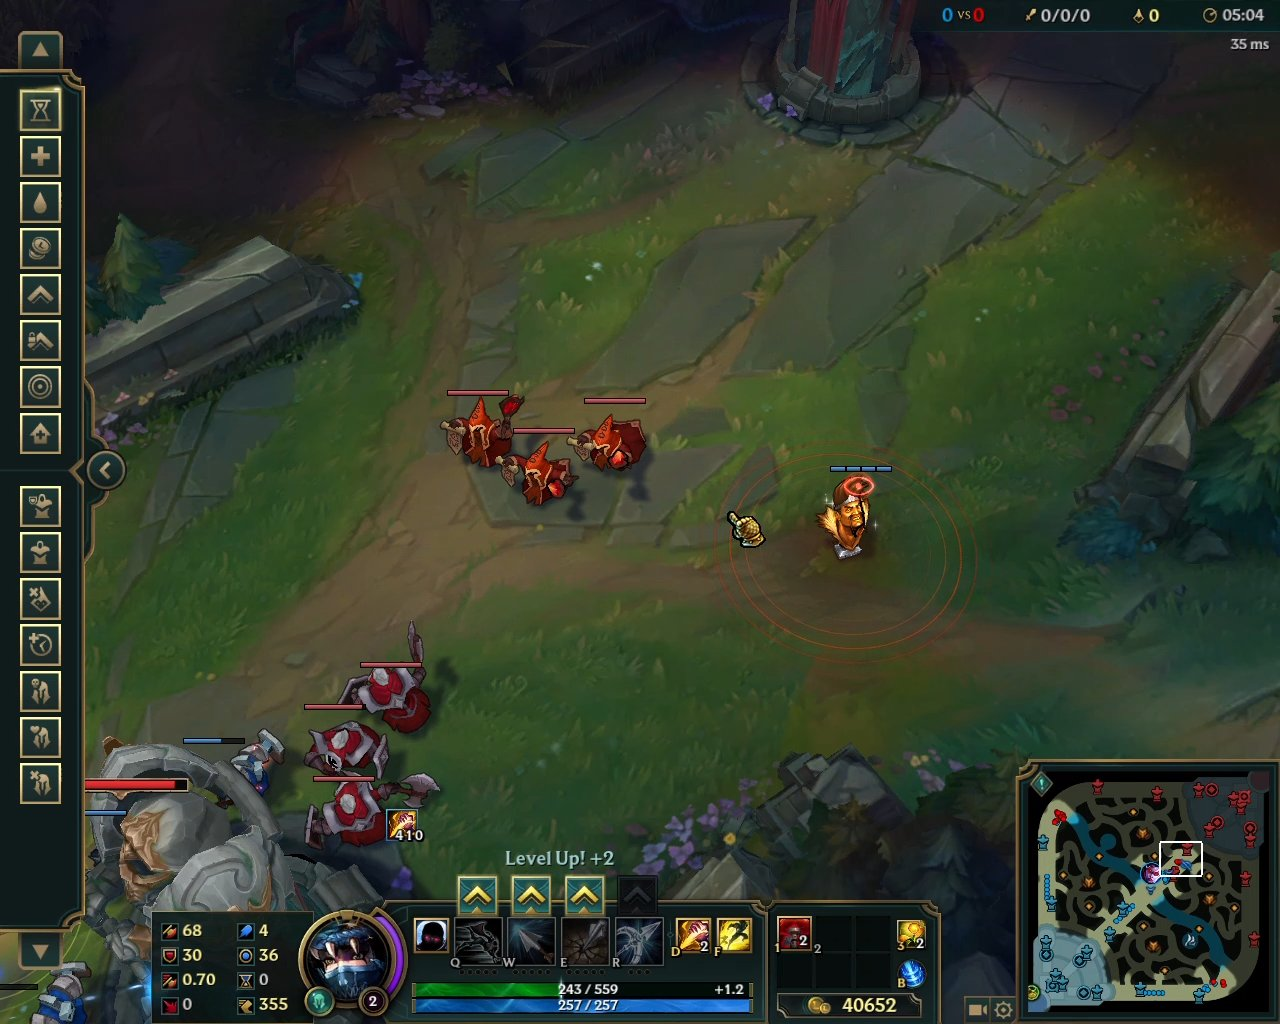EnemyMinion: (299, 768, 443, 852), (342, 620, 437, 739), (437, 387, 528, 470), (304, 704, 392, 787), (491, 427, 574, 513), (572, 395, 650, 474)
